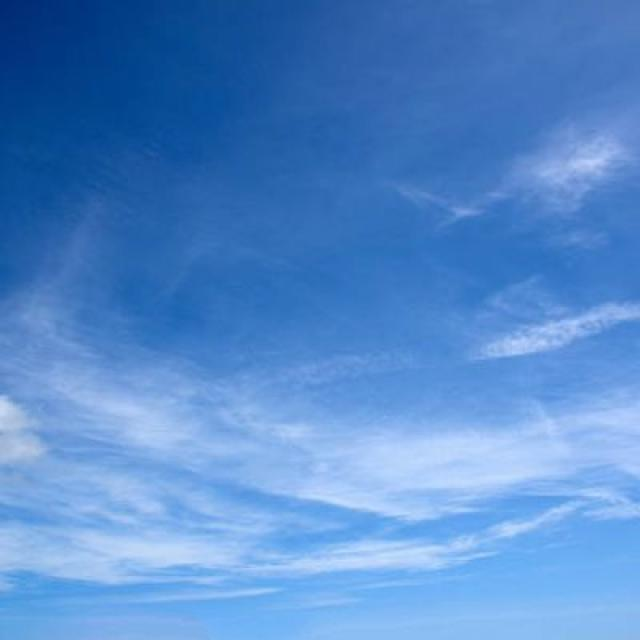Ci: (1, 103, 640, 625)
